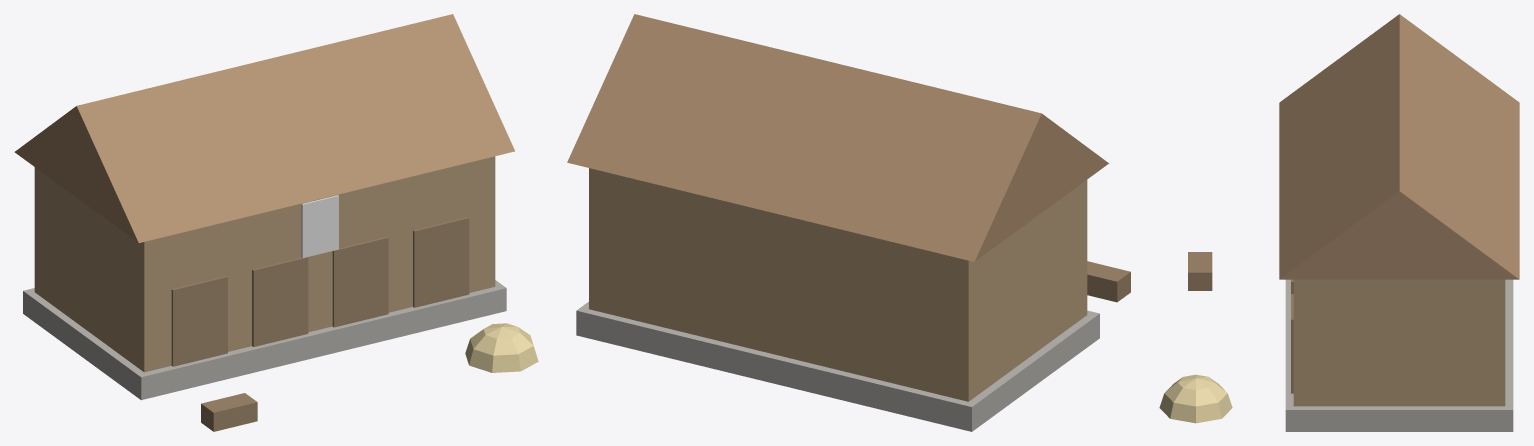
3 renders of one model, left to right at view 1: azimuth 30°, elevation 25°; view 2: azimuth 150°, elevation 25°; view 3: azimuth 270°, elevation 25°, orthographic. The views are drawn at different scales.
Visible parts, largest first — view 1: body; view 2: body; view 3: body.
Part boxes in pixels (x1=…): body: x1=14, y1=14, x2=538, y2=431; body: x1=567, y1=14, x2=1130, y2=431; body: x1=1159, y1=14, x2=1519, y2=431.
Size of the model in its own units: 10.3 by 6.6 by 8.85.
